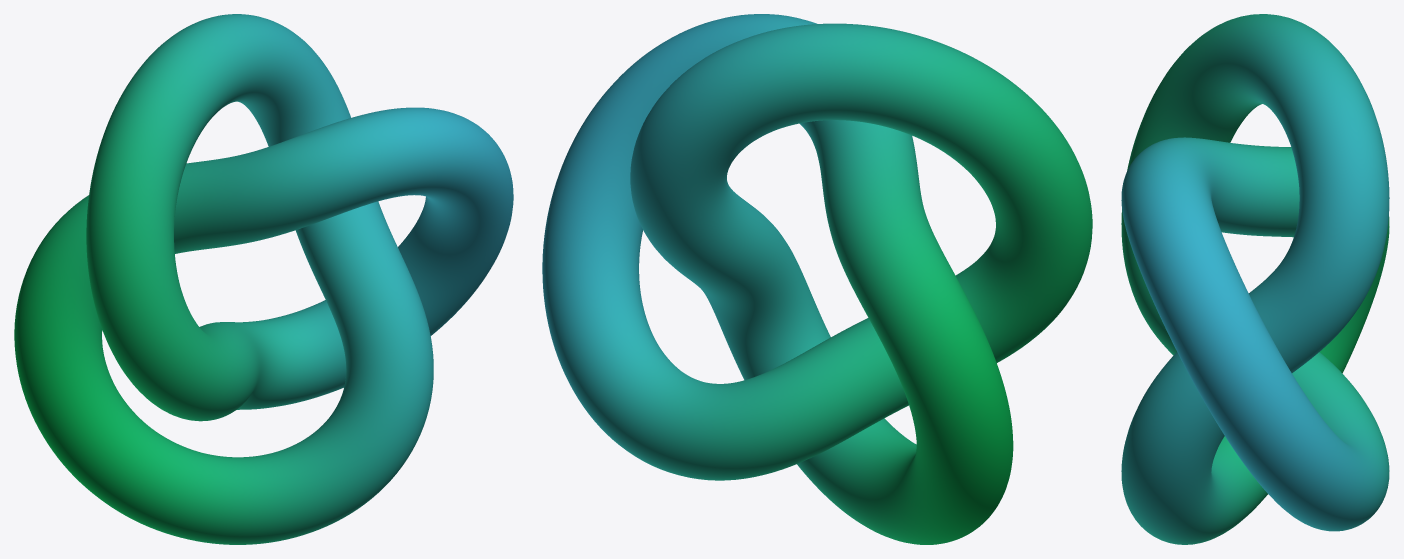
The model's file is fluent-knot.glb.
3 renders of one model, left to right at view 1: azimuth 30°, elevation 25°; view 2: azimuth 150°, elevation 25°; view 3: azimuth 270°, elevation 25°, orthographic. The views are drawn at different scales.
Visible parts, largest first — view 1: Fluent_knot; view 2: Fluent_knot; view 3: Fluent_knot.
Boxes of the visible parts, <box> form: Fluent_knot: <box>14,14,513,544</box>; Fluent_knot: <box>542,14,1092,544</box>; Fluent_knot: <box>1121,14,1389,544</box>.
Size of the model in its own units: 2.91 by 3.03 by 1.49.
